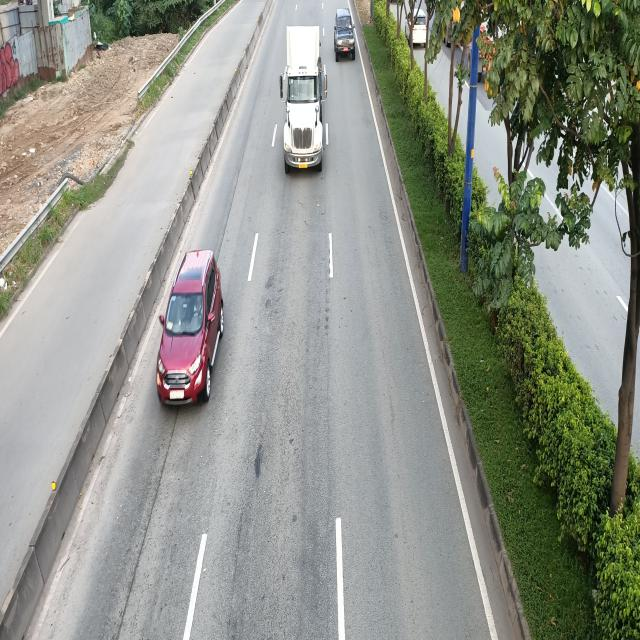car: (160, 251, 227, 408), (334, 9, 358, 61)
container: (280, 16, 327, 170)
